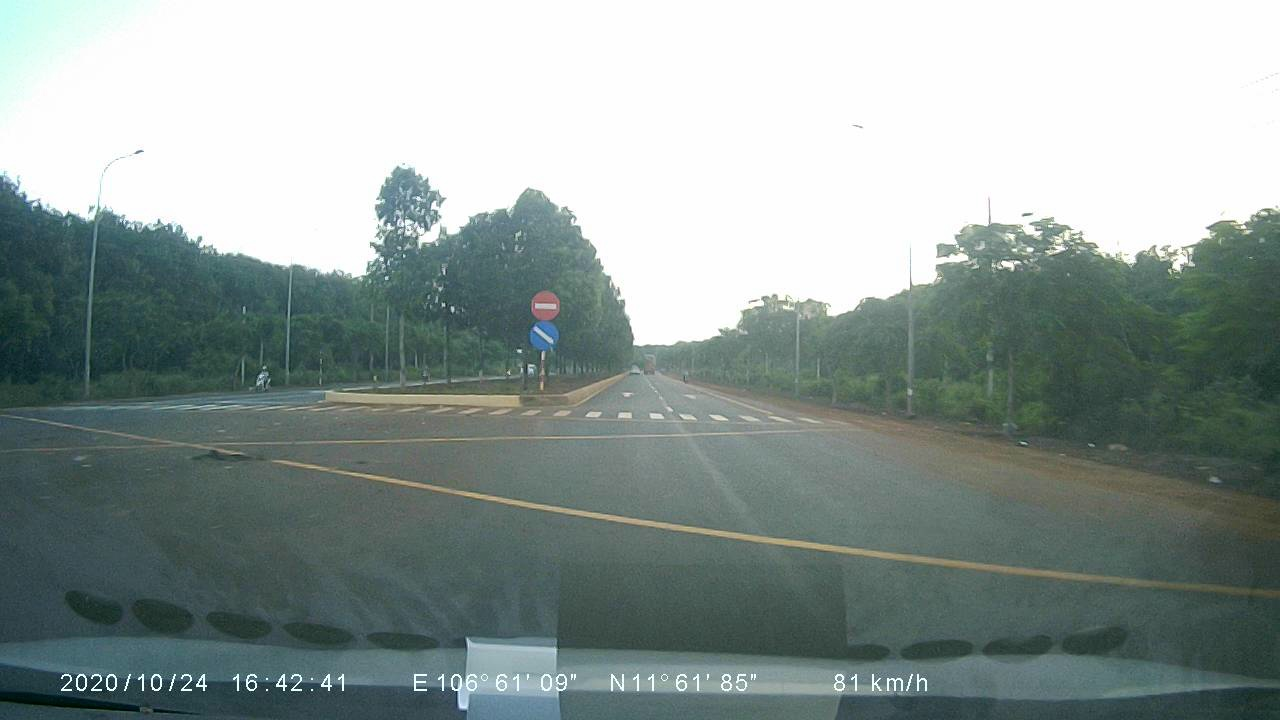Cam di nguoc chieu: (529, 289, 560, 320)
Huong di phai re phai: (526, 320, 559, 347)
